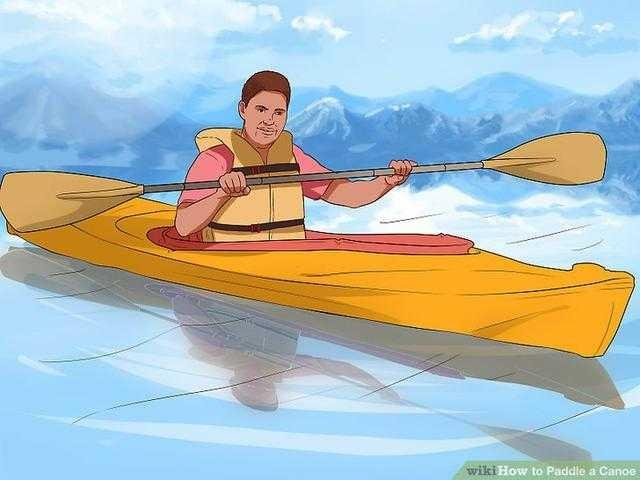kayak: (1, 140, 637, 429)
